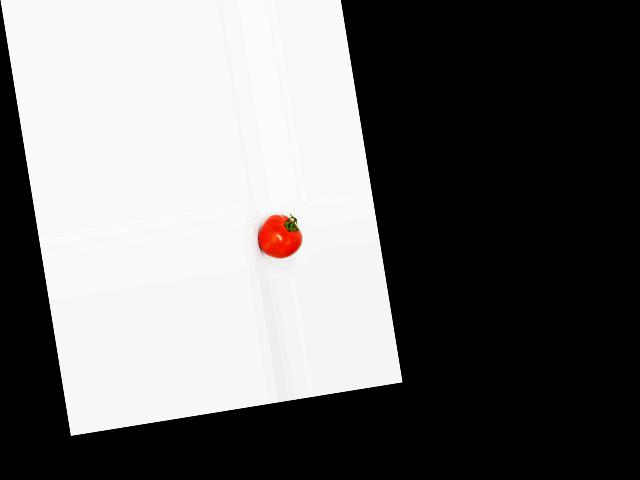tomato: (254, 211, 305, 261)
